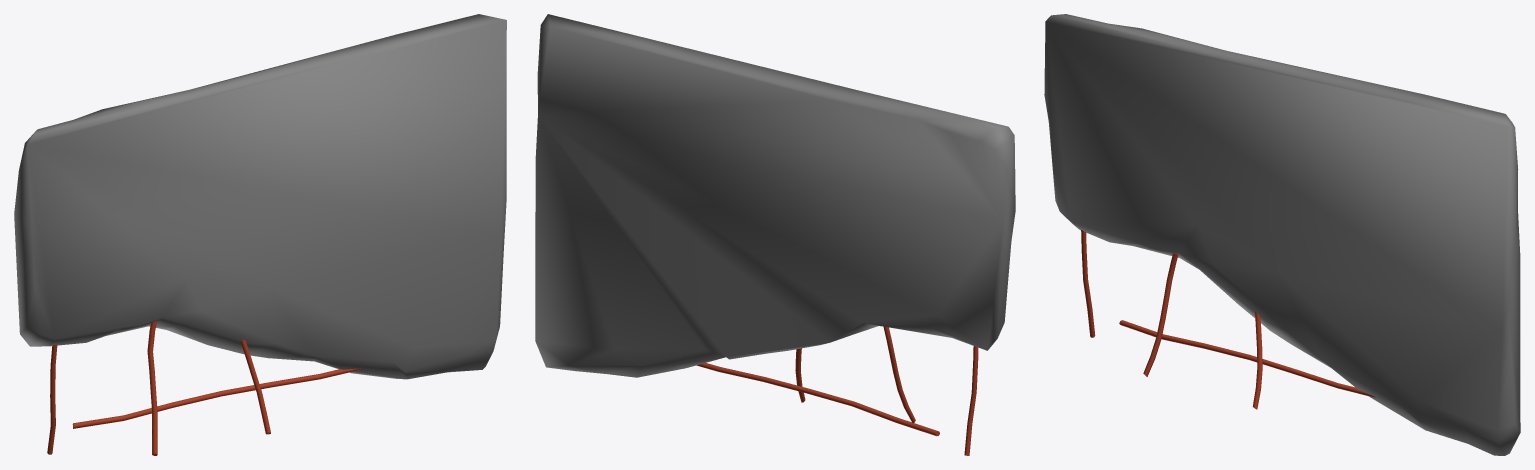
Rendered from SM_wall_broken_03.fbx.
The picture shows the model from 3 angles, left to right: view 1: azimuth 30°, elevation 25°; view 2: azimuth 150°, elevation 25°; view 3: azimuth 330°, elevation 25°; orthographic projection. The views are drawn at different scales.
Parts seen in each view (by area): view 1: Object015; view 2: Object015; view 3: Object015.
Boxes of the visible parts, box(x1,y1,x2,y2) form: Object015: box(14, 14, 506, 455); Object015: box(535, 14, 1015, 455); Object015: box(1044, 14, 1520, 455).
Size of the model in its own units: 197 by 137 by 21.94.
